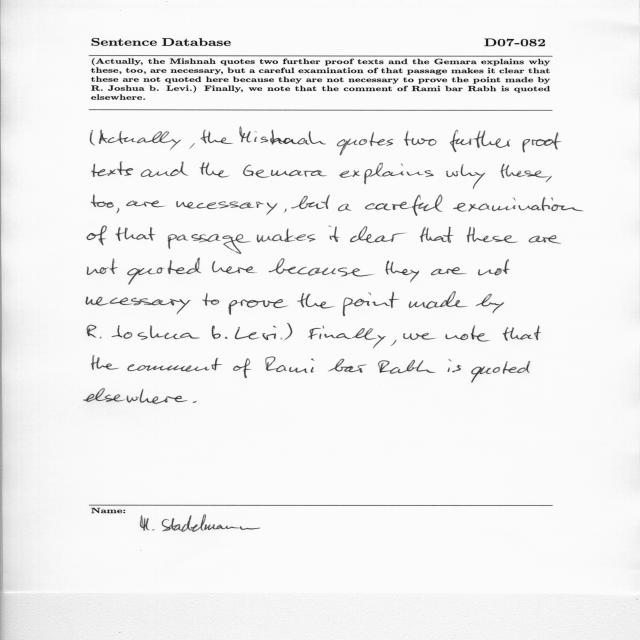word: (339, 163, 434, 184), (269, 258, 374, 277), (453, 197, 584, 212), (127, 258, 201, 284), (86, 297, 191, 315), (308, 326, 386, 349), (365, 194, 442, 216), (99, 130, 181, 150), (168, 234, 250, 254), (239, 127, 326, 145), (84, 389, 188, 404), (176, 201, 278, 215), (343, 292, 400, 316), (450, 130, 511, 152), (111, 325, 200, 340), (127, 358, 222, 372), (471, 361, 530, 383), (337, 132, 393, 155), (243, 164, 327, 178), (408, 291, 468, 309), (446, 164, 485, 189), (350, 226, 406, 243), (229, 299, 288, 315), (266, 356, 315, 373), (257, 229, 316, 243), (467, 227, 518, 243), (378, 360, 435, 374), (523, 133, 561, 153), (385, 261, 419, 283), (446, 325, 490, 342), (141, 162, 189, 177), (500, 164, 549, 178), (92, 162, 133, 177), (502, 326, 541, 341), (115, 227, 156, 241), (235, 326, 276, 340), (297, 293, 335, 308), (420, 226, 453, 243), (291, 195, 330, 209), (476, 294, 504, 313), (328, 359, 366, 373), (404, 130, 437, 146), (212, 261, 255, 273), (478, 259, 510, 275), (87, 259, 118, 275), (201, 130, 234, 144), (200, 163, 229, 178), (91, 355, 119, 370), (87, 226, 107, 245), (233, 358, 252, 378), (91, 194, 114, 208), (529, 235, 562, 244), (431, 267, 466, 275), (126, 201, 165, 208), (404, 333, 437, 340), (202, 293, 219, 306), (212, 325, 227, 339), (87, 325, 101, 338), (448, 359, 462, 372), (329, 226, 340, 242), (284, 323, 292, 340), (338, 204, 351, 211), (91, 130, 96, 146), (189, 143, 195, 149), (546, 176, 552, 182), (391, 340, 396, 346), (116, 208, 119, 213), (284, 209, 287, 213), (193, 401, 197, 403), (281, 338, 283, 339)
